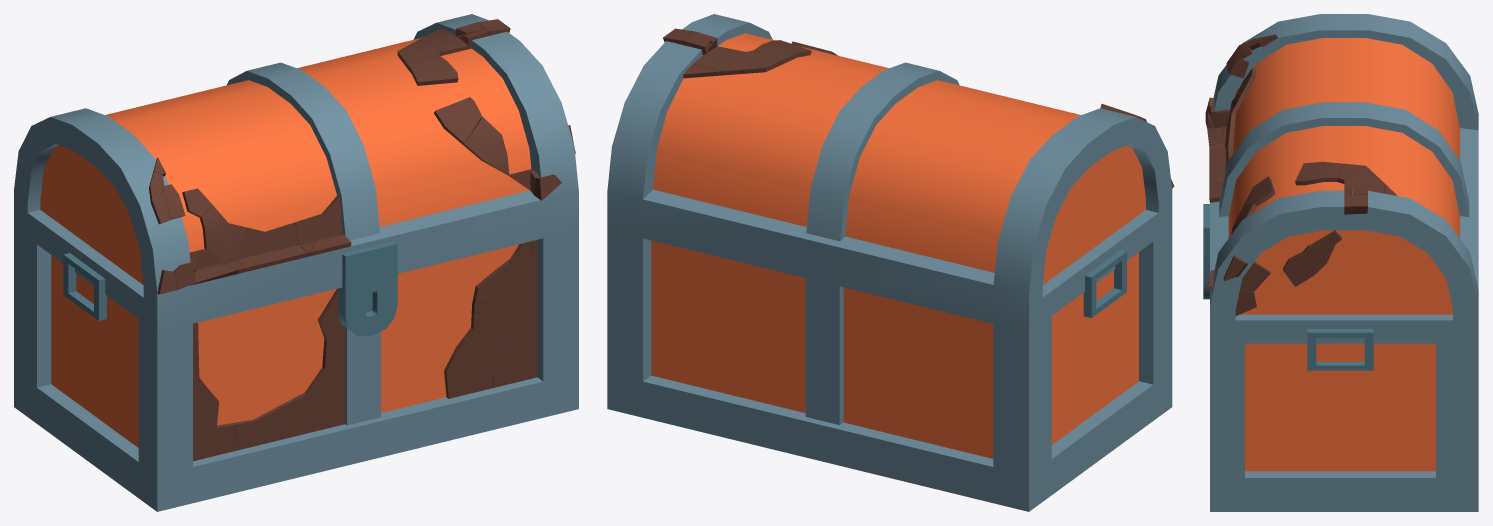
The model's file is Chest (1).fbx.
The picture shows the model from 3 angles, left to right: view 1: azimuth 30°, elevation 25°; view 2: azimuth 150°, elevation 25°; view 3: azimuth 270°, elevation 25°; orthographic projection. The views are drawn at different scales.
Parts seen in each view (by area): view 1: Chest, Chest.001_cell.082, Chest.001_cell.065, Chest.001_cell.014, Chest.001_cell.080, Chest.001_cell.056, Chest.001_cell.058, Chest.001_cell.074, Chest.001_cell.069, Chest.001_cell.071, Chest.001_cell.059, Chest.001_cell.072 (+9 smaller); view 2: Chest, Chest.001_cell.070, Chest.001_cell.016, Chest.001_cell.072; view 3: Chest, Chest.001_cell.072, Chest.001_cell.035, Chest.001_cell.082, Chest.001_cell.070, Chest.001_cell.055, Chest.001_cell.071, Chest.001_cell.080, Chest.001_cell.006, Chest.001_cell.040, Chest.001_cell.016, Chest.001_cell.038 (+4 smaller).
Part boxes in pixels (<box>): Chest: <box>14,14,578,511</box>; Chest.001_cell.082: <box>237,223,307,272</box>; Chest.001_cell.065: <box>464,308,533,363</box>; Chest.001_cell.014: <box>493,313,537,387</box>; Chest.001_cell.080: <box>200,205,247,273</box>; Chest.001_cell.056: <box>279,380,336,437</box>; Chest.001_cell.058: <box>234,406,289,451</box>; Chest.001_cell.074: <box>462,116,509,175</box>; Chest.001_cell.069: <box>502,247,537,314</box>; Chest.001_cell.071: <box>434,97,481,144</box>; Chest.001_cell.059: <box>193,414,235,455</box>; Chest.001_cell.072: <box>404,56,458,85</box>; Chest: <box>607,14,1172,511</box>; Chest.001_cell.070: <box>724,50,781,75</box>; Chest.001_cell.016: <box>693,31,745,74</box>; Chest.001_cell.072: <box>754,40,811,64</box>; Chest: <box>1203,14,1478,511</box>; Chest.001_cell.072: <box>1295,161,1343,185</box>; Chest.001_cell.035: <box>1283,252,1320,286</box>; Chest.001_cell.082: <box>1209,129,1234,178</box>; Chest.001_cell.070: <box>1337,163,1384,183</box>; Chest.001_cell.055: <box>1240,261,1270,292</box>; Chest.001_cell.071: <box>1242,176,1275,207</box>; Chest.001_cell.080: <box>1209,93,1245,149</box>; Chest.001_cell.006: <box>1227,47,1251,78</box>; Chest.001_cell.040: <box>1344,195,1367,214</box>; Chest.001_cell.016: <box>1344,180,1384,194</box>; Chest.001_cell.038: <box>1208,105,1223,145</box>.
Size of the model in its own units: 436 by 314 by 254.
